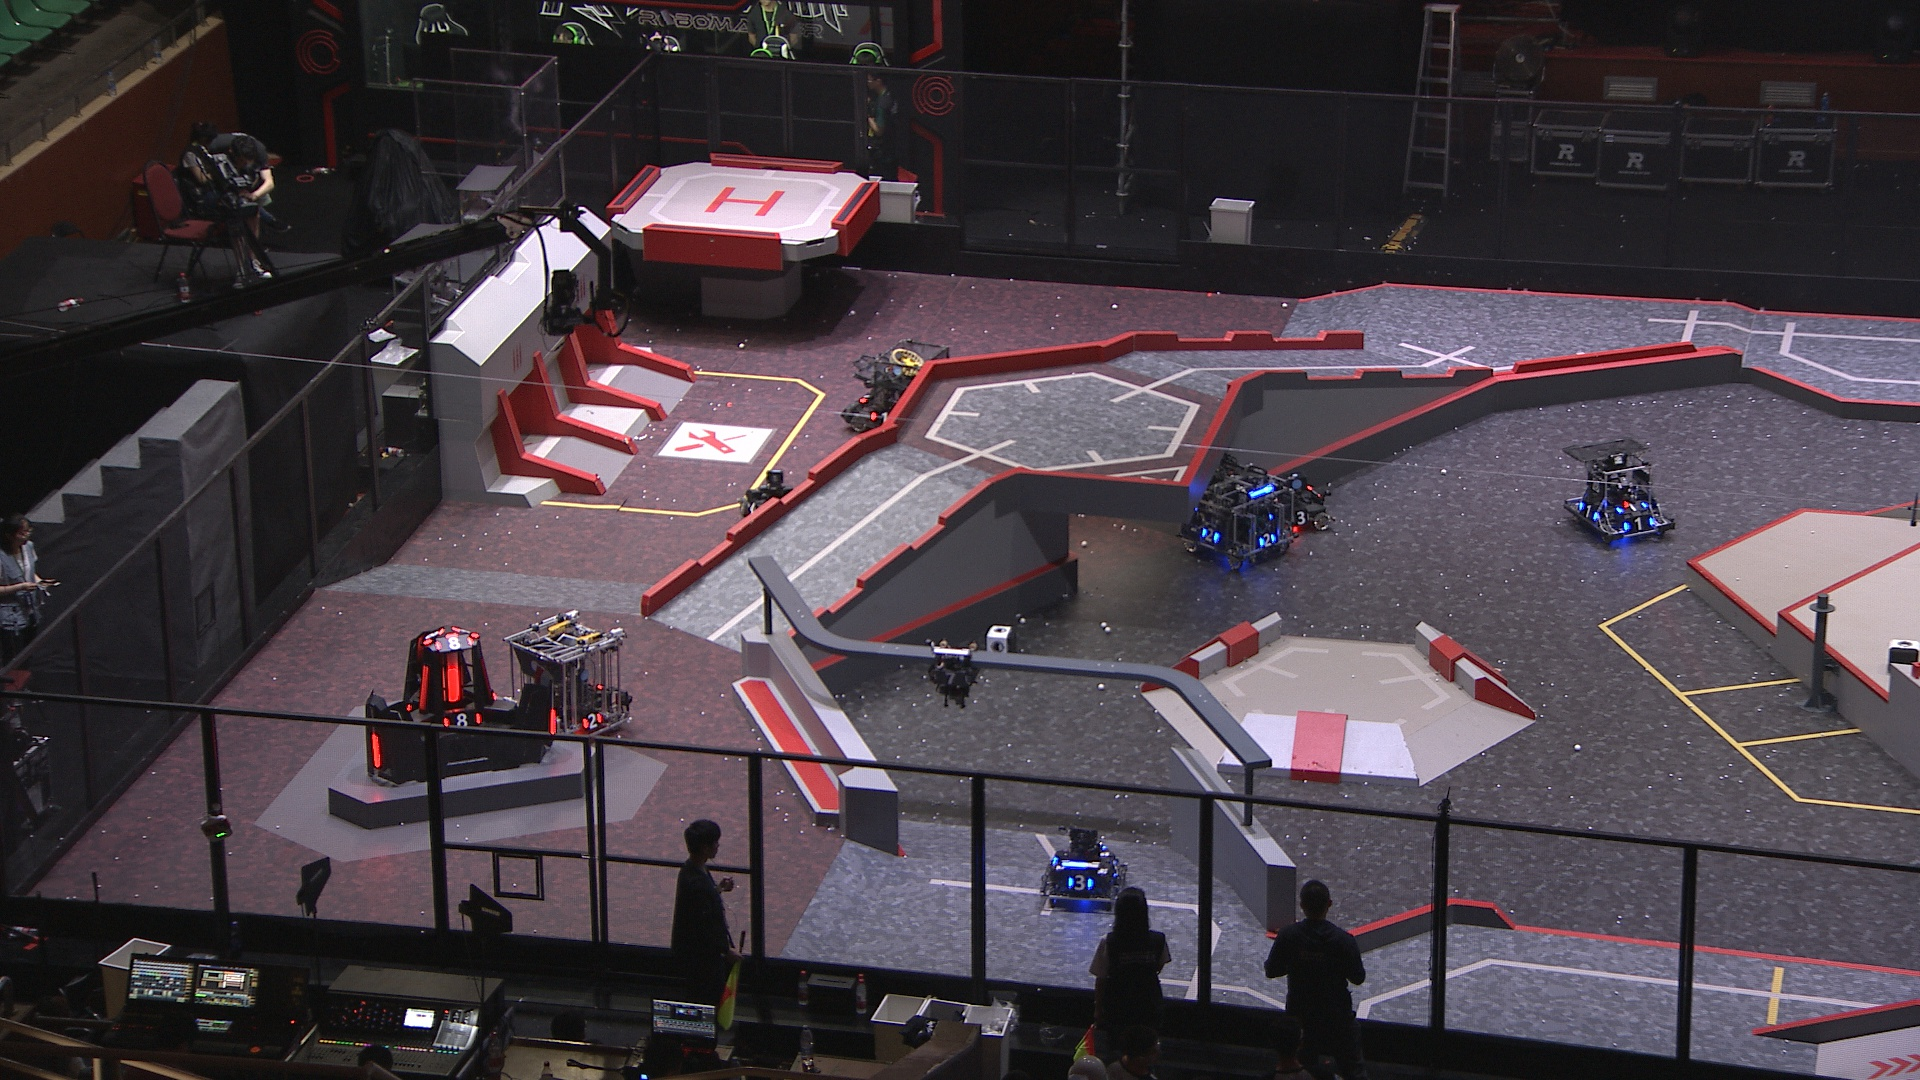armor: (440, 711, 481, 731), (932, 670, 969, 688), (444, 666, 462, 705), (367, 731, 384, 770), (1625, 512, 1656, 531), (436, 636, 475, 651), (1617, 500, 1650, 516), (1577, 501, 1600, 522), (418, 666, 429, 711), (1067, 874, 1093, 891), (580, 711, 607, 728), (423, 624, 440, 646), (1290, 508, 1313, 524), (870, 409, 889, 427), (1257, 531, 1276, 547), (1200, 527, 1220, 543), (858, 390, 873, 409), (547, 709, 556, 737)
base: (363, 618, 562, 789)
car: (501, 607, 641, 746), (1168, 455, 1295, 572), (1565, 438, 1673, 545), (843, 338, 956, 439), (1036, 825, 1127, 913), (735, 465, 811, 531), (1269, 469, 1331, 541)
watcher: (923, 637, 986, 711)
